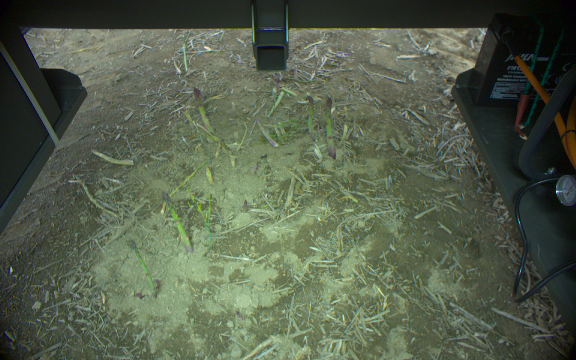aspa: (124, 237, 159, 297), (160, 191, 193, 252), (193, 85, 214, 136), (320, 95, 336, 160), (303, 96, 317, 144), (182, 110, 203, 139), (264, 91, 285, 119), (178, 40, 190, 74), (240, 199, 249, 214)
